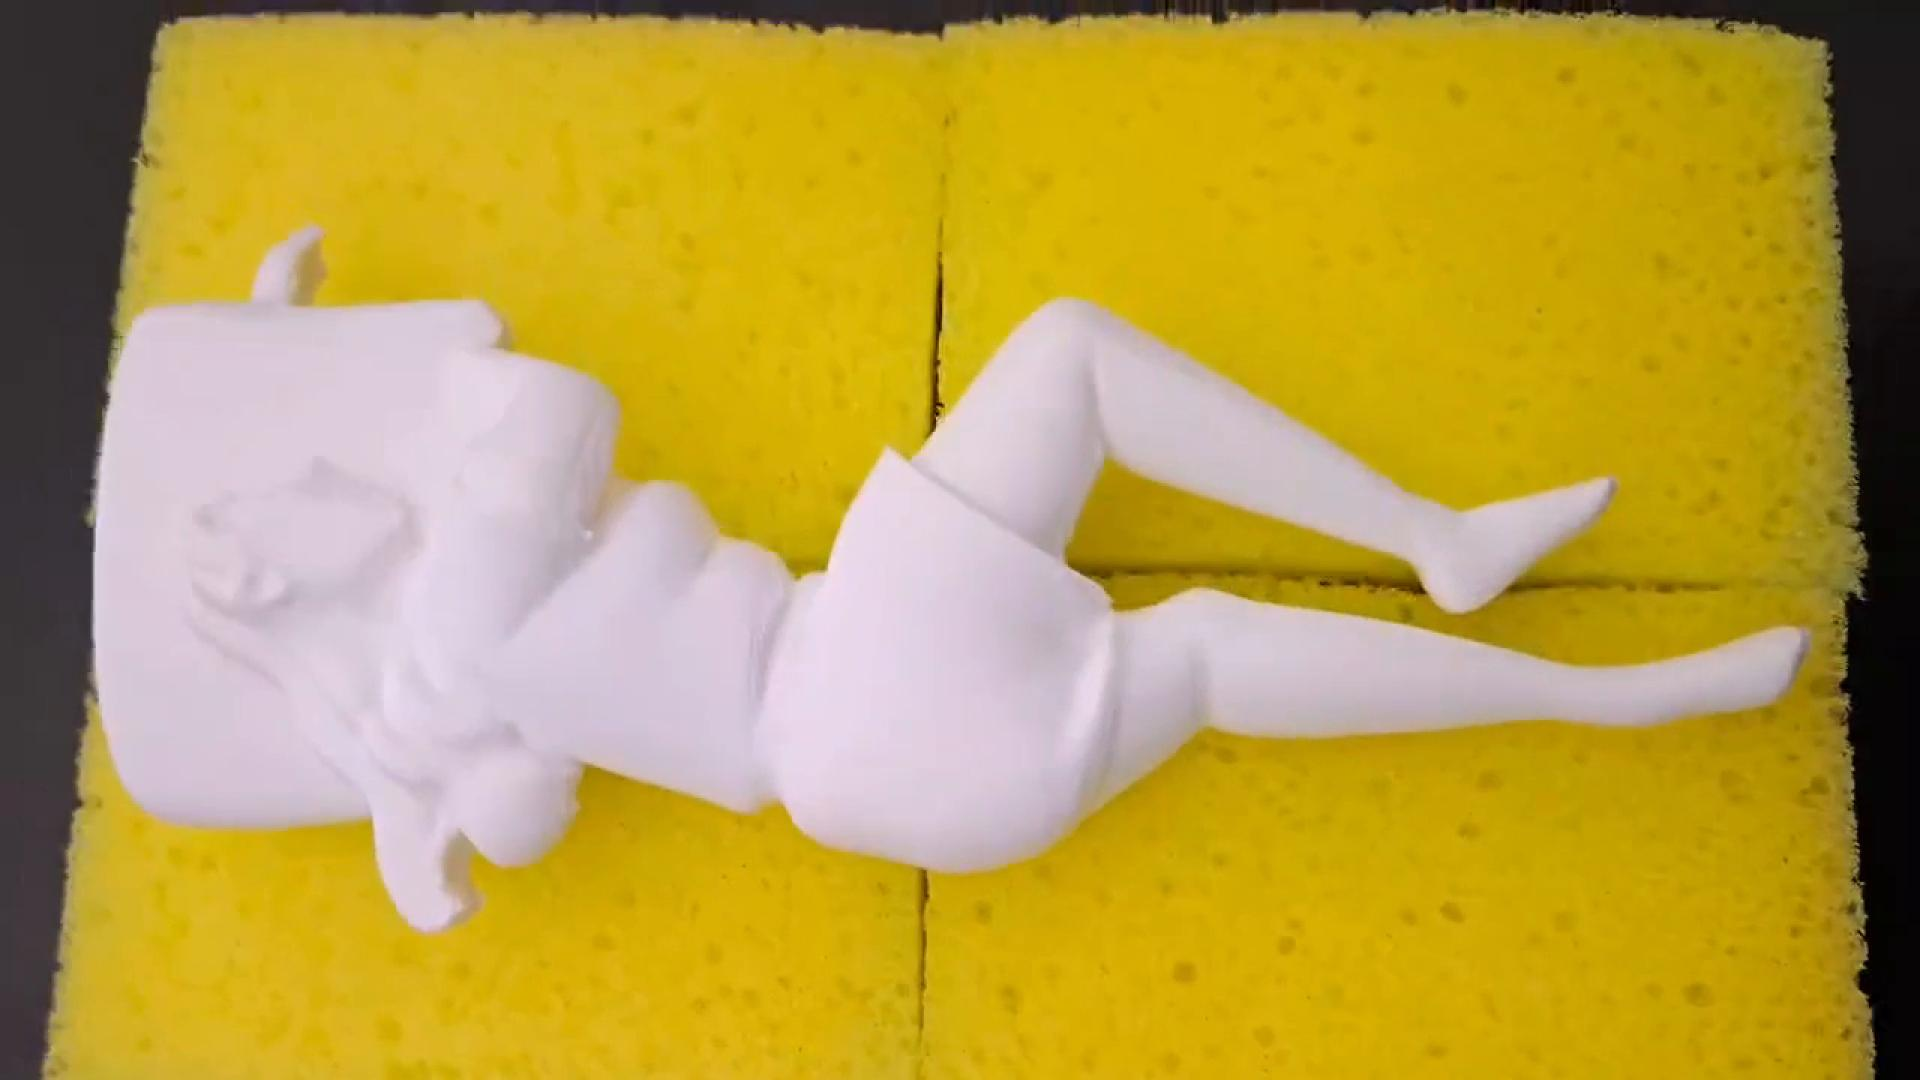Good-style: (83, 220, 1821, 939)
